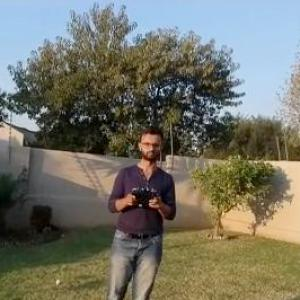follow: (96, 119, 181, 299)
